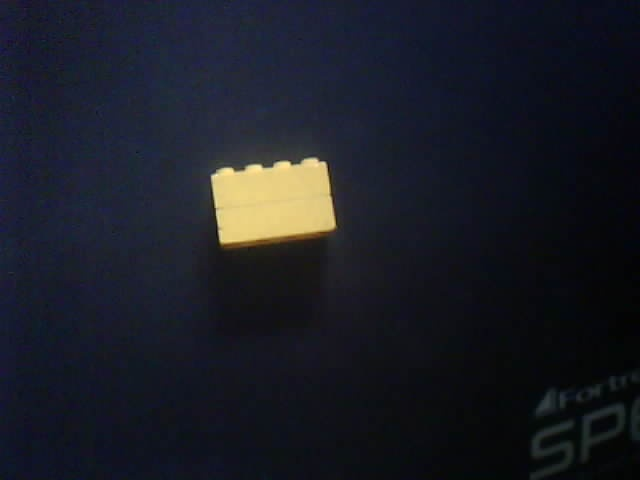lego: (208, 156, 338, 250)
